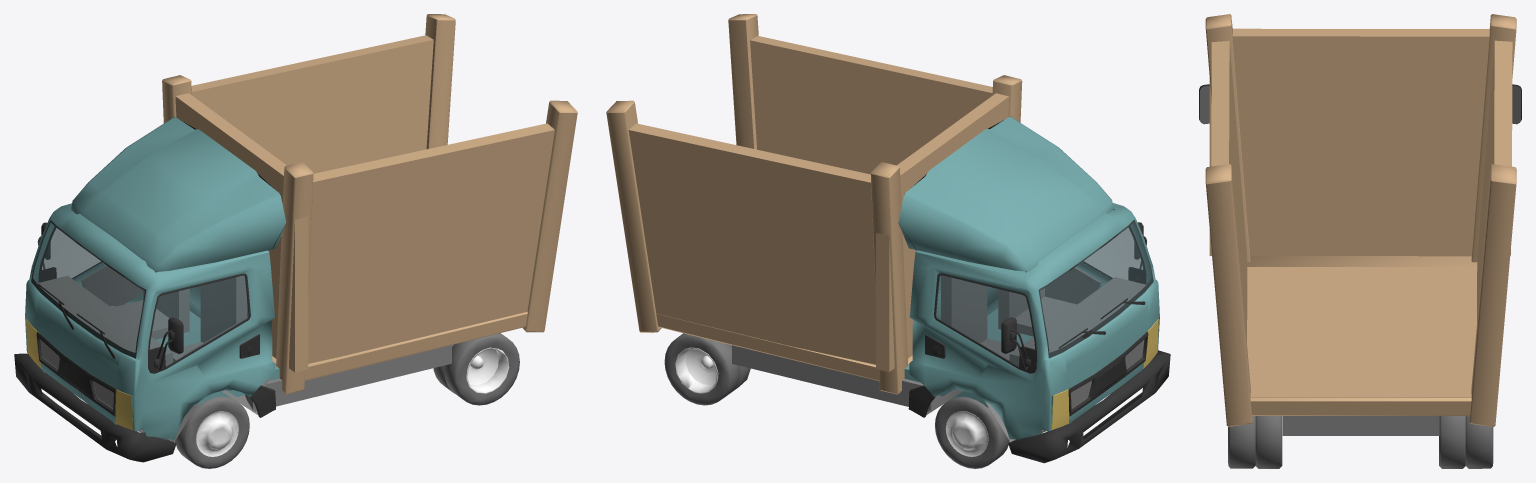
File: Truck2.fbx
3 renders of one model, left to right at view 1: azimuth 30°, elevation 25°; view 2: azimuth 150°, elevation 25°; view 3: azimuth 270°, elevation 25°, orthographic. The views are drawn at different scales.
Visible parts, largest first — view 1: Truck, BODY, GLASS, Interior, CABIN_PLASTIC, BUMPER_FRONT, Cube_1, wheel_02, wheel_01, Cube_2, LIGHTS, b2; view 2: Truck, BODY, GLASS, Interior, CABIN_PLASTIC, BUMPER_FRONT, Cube_1, wheel_003, wheel_004, Cube, LIGHTS, b2; view 3: Truck, b2, Cube_1, wheel_003, wheel_02, CABIN_PLASTIC.
Part boxes in pixels (x1,y1,x2,y2): Truck: [162, 14, 577, 394]; BODY: [25, 117, 286, 439]; GLASS: [31, 220, 248, 366]; Interior: [37, 275, 246, 388]; CABIN_PLASTIC: [31, 220, 275, 417]; BUMPER_FRONT: [14, 353, 176, 462]; Cube_1: [40, 117, 451, 441]; wheel_02: [433, 333, 519, 405]; wheel_01: [175, 396, 249, 468]; Cube_2: [81, 265, 143, 306]; LIGHTS: [26, 319, 132, 430]; b2: [156, 311, 279, 406]; Truck: [606, 14, 1022, 394]; BODY: [898, 116, 1159, 439]; GLASS: [936, 220, 1153, 365]; Interior: [941, 275, 1145, 396]; CABIN_PLASTIC: [908, 220, 1153, 417]; BUMPER_FRONT: [1008, 350, 1170, 463]; Cube_1: [732, 116, 1144, 441]; wheel_003: [664, 333, 750, 405]; wheel_004: [935, 397, 1009, 468]; Cube: [1045, 267, 1100, 304]; LIGHTS: [1052, 318, 1158, 429]; b2: [904, 308, 1032, 407]; Truck: [1205, 14, 1516, 426]; b2: [1247, 267, 1477, 397]; Cube_1: [1282, 416, 1439, 435]; wheel_003: [1439, 416, 1493, 468]; wheel_02: [1228, 416, 1282, 468]; CABIN_PLASTIC: [1199, 84, 1521, 124].
Size of the model in its own units: 499 by 310 by 269.
